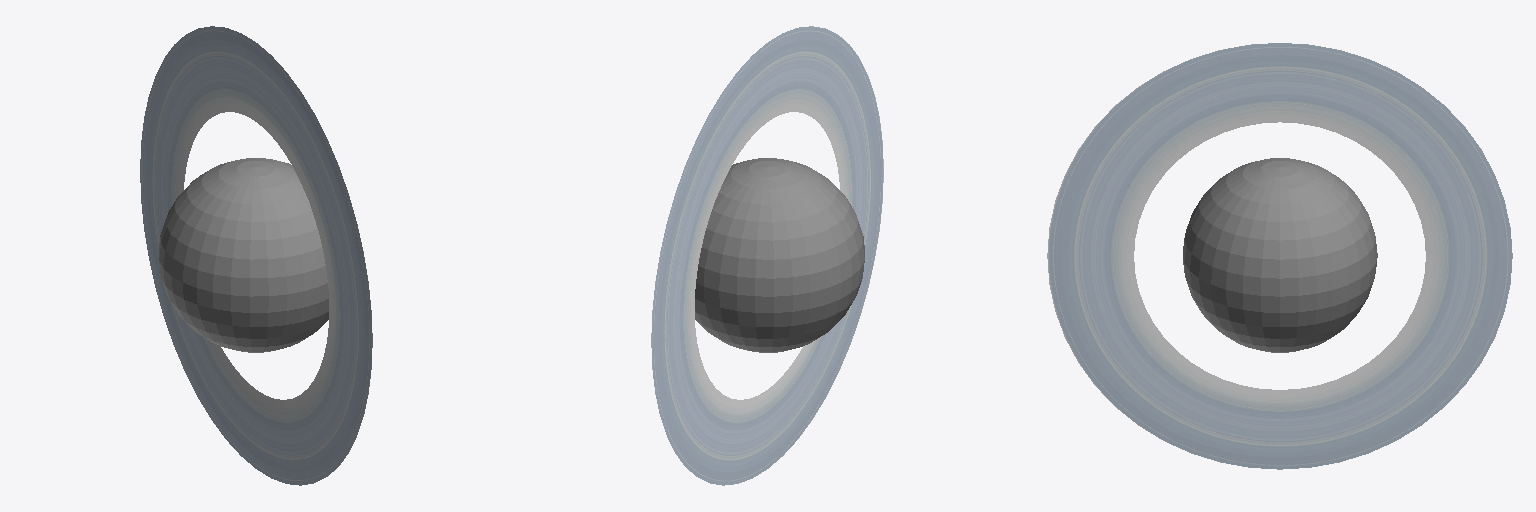
The picture shows the model from 3 angles: view 1: azimuth 30°, elevation 25°; view 2: azimuth 150°, elevation 25°; view 3: azimuth 270°, elevation 25°; orthographic projection.
Parts seen in each view (by area): view 1: Rings_Mesh.005, Uranus_Mesh; view 2: Rings_Mesh.005, Uranus_Mesh; view 3: Rings_Mesh.005, Uranus_Mesh.
Part boxes in pixels (x1,y1,x2,y2): Rings_Mesh.005: (140, 26, 372, 485); Uranus_Mesh: (159, 158, 328, 352); Rings_Mesh.005: (651, 26, 883, 485); Uranus_Mesh: (695, 158, 864, 352); Rings_Mesh.005: (1047, 43, 1512, 469); Uranus_Mesh: (1183, 158, 1377, 352).
Size of the model in its own units: 16.32 by 39.35 by 38.88.
2 materials, 1 textured.